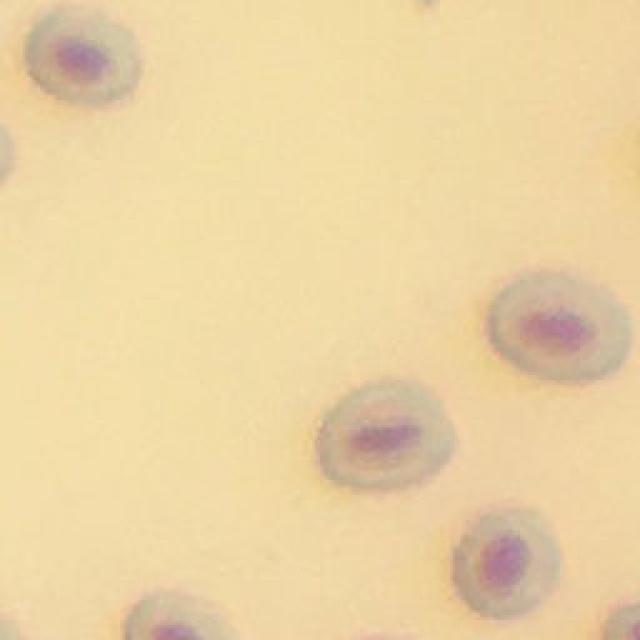RBC: (490, 272, 632, 381), (318, 382, 458, 490), (23, 10, 144, 106), (455, 512, 562, 620), (125, 595, 234, 640)
